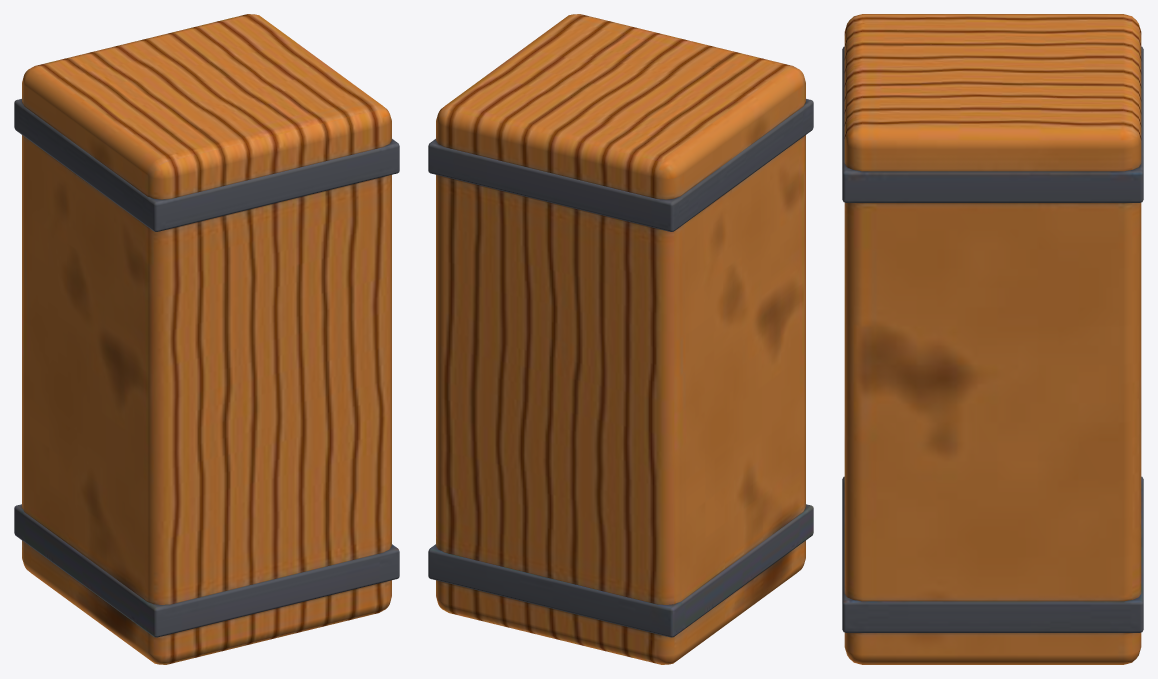
Rendered from direk.glb.
3 renders of one model, left to right at view 1: azimuth 30°, elevation 25°; view 2: azimuth 150°, elevation 25°; view 3: azimuth 270°, elevation 25°, orthographic. The views are drawn at different scales.
Visible parts, largest first — view 1: direk; view 2: direk; view 3: direk.
Part boxes in pixels (bbox=[...]): direk: bbox=[14, 14, 399, 664]; direk: bbox=[428, 14, 813, 664]; direk: bbox=[842, 14, 1143, 664].
Size of the model in its own units: 1.02 by 2 by 1.02.
Materials: 2 (2 with a texture image).
